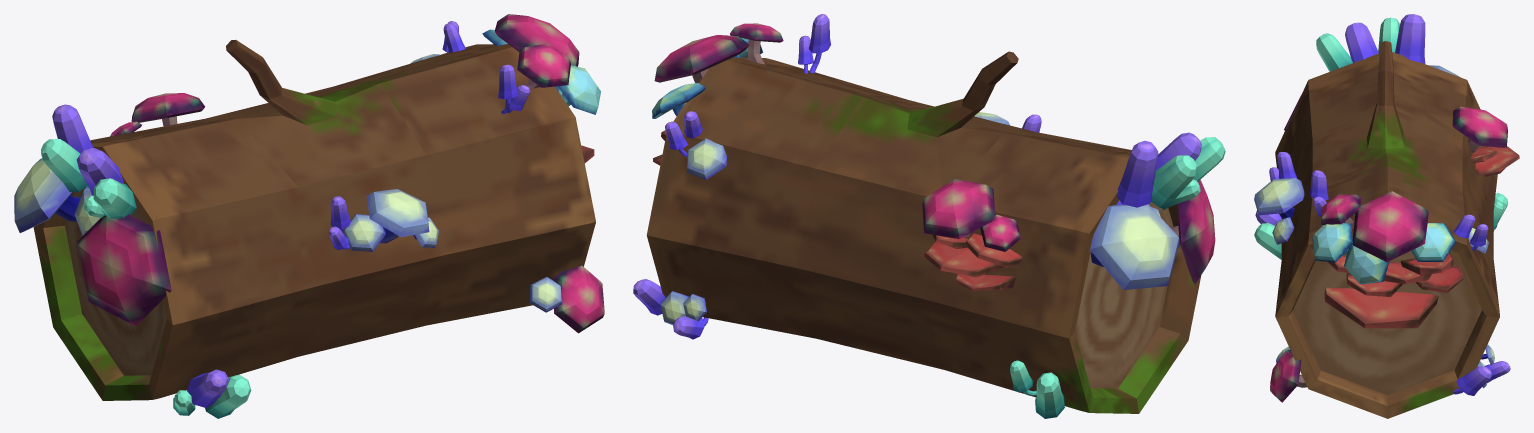
Rendered from tree_trunk_stump.fbx.
The picture shows the model from 3 angles, left to right: view 1: azimuth 30°, elevation 25°; view 2: azimuth 150°, elevation 25°; view 3: azimuth 270°, elevation 25°; orthographic projection. The views are drawn at different scales.
Visible parts, largest first — view 1: Mushroom_trunk; view 2: Mushroom_trunk; view 3: Mushroom_trunk.
Part boxes in pixels (bbox=[...]): Mushroom_trunk: bbox=[14, 14, 604, 418]; Mushroom_trunk: bbox=[633, 14, 1225, 418]; Mushroom_trunk: bbox=[1254, 14, 1519, 418].
Size of the model in its own units: 4.51 by 2.65 by 2.41.
2 materials, 2 textured.
